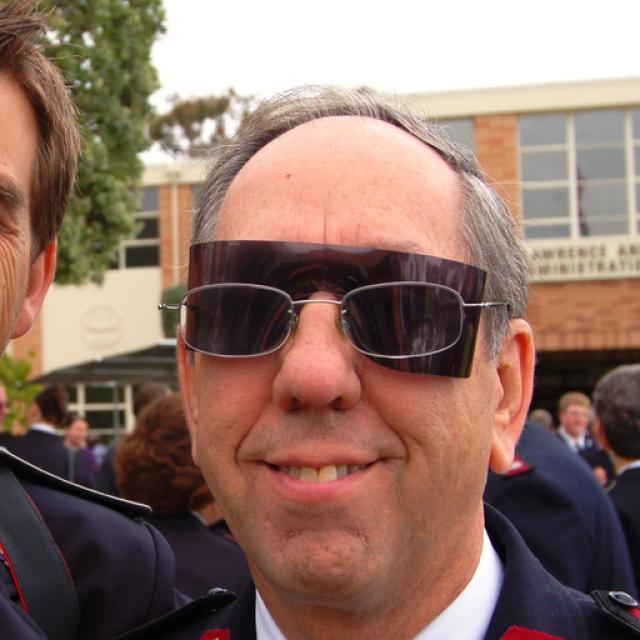content: (193, 111, 500, 600)
